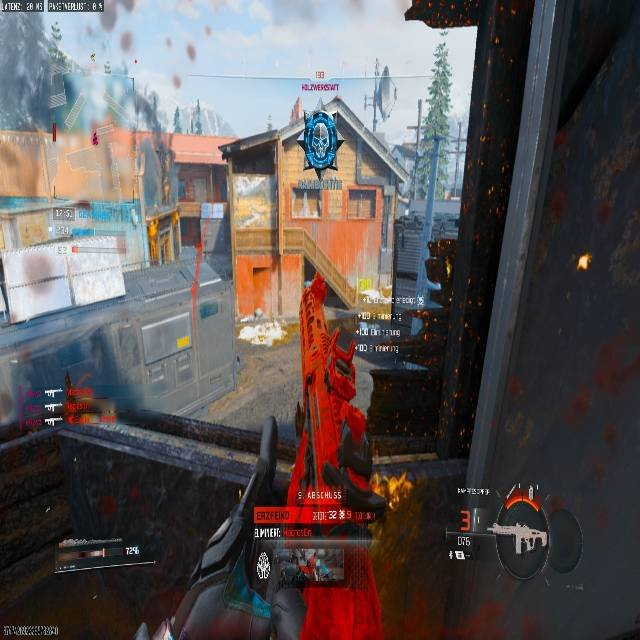player: (301, 107, 342, 176)
